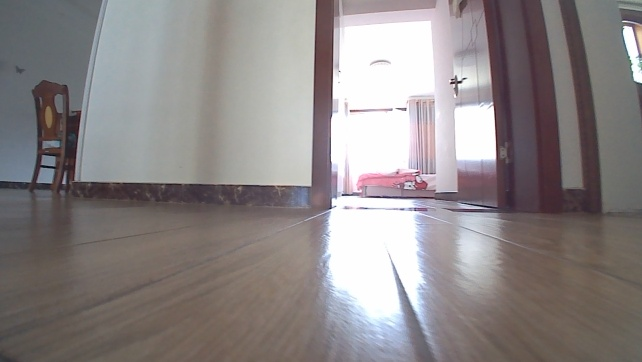bed1: (355, 166, 436, 200)
door_anno: (446, 0, 545, 215)
